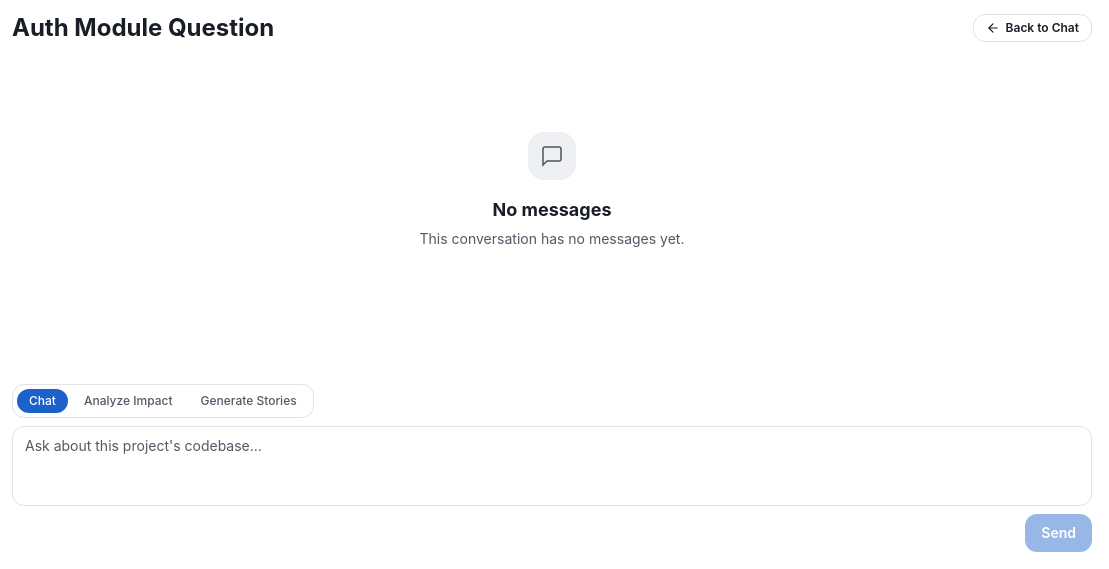
Scenario: ThreadViewPage › optimistically renders the user's message after submit, before subscription delivers
This screenshot has width=1109, height=569.
Type "What about docs?" into the text box with placeholder "Ask about this project's codebase…" at (552, 466), box [12,426,1092,506]
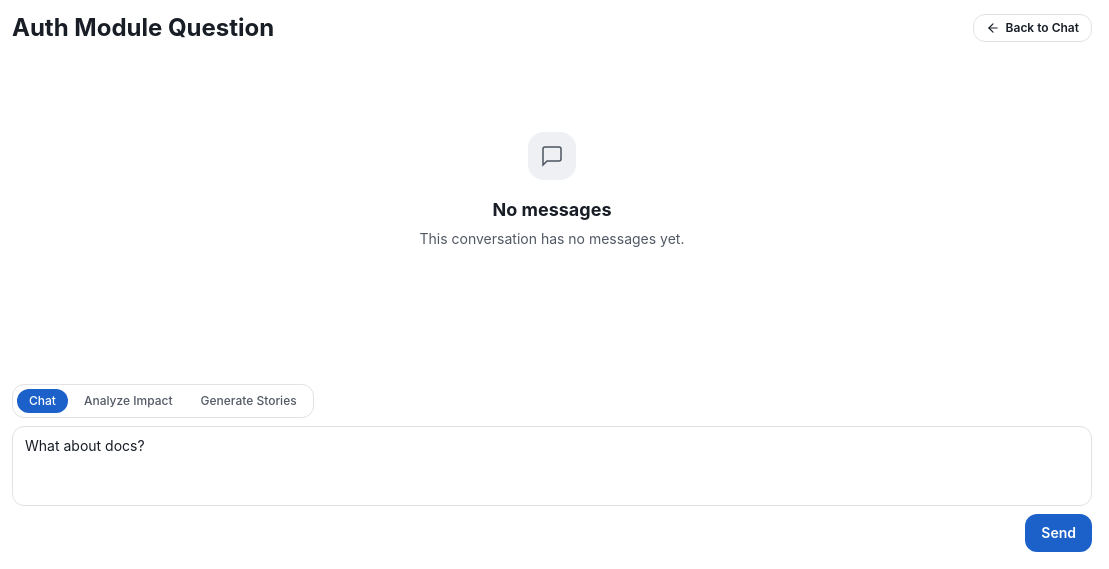
Click the button "Send" at (1059, 533), box [1025,514,1092,552]
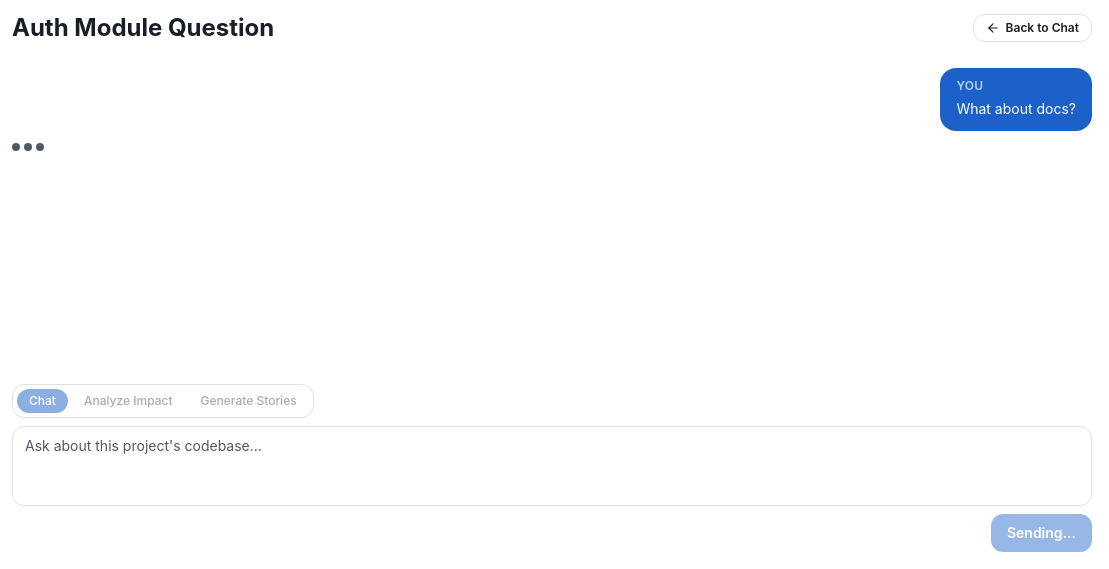
Check: the text "What about docs?" is shown, box [956,100,1076,117]
